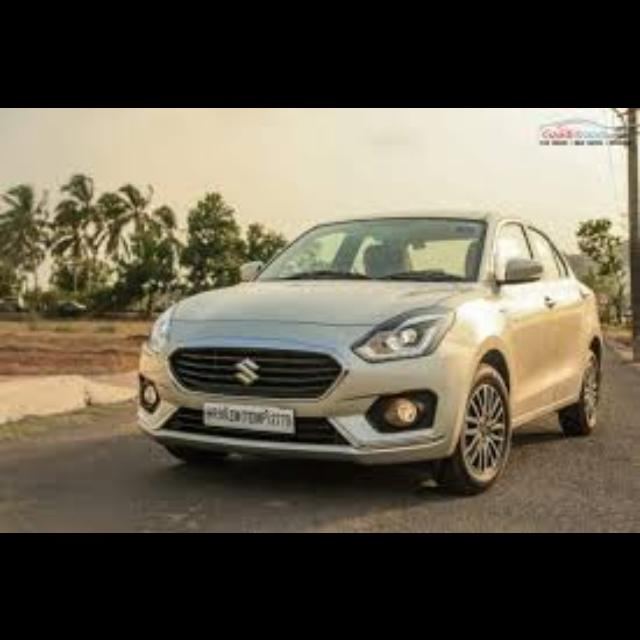number-plate: (201, 400, 294, 430)
vehicles: (121, 207, 603, 496)
